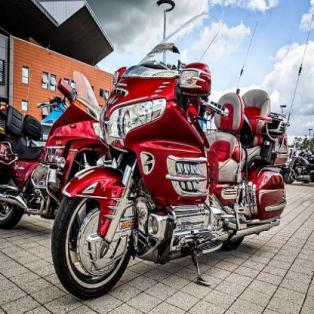Motocicleta: (46, 41, 288, 300), (2, 54, 101, 215)
